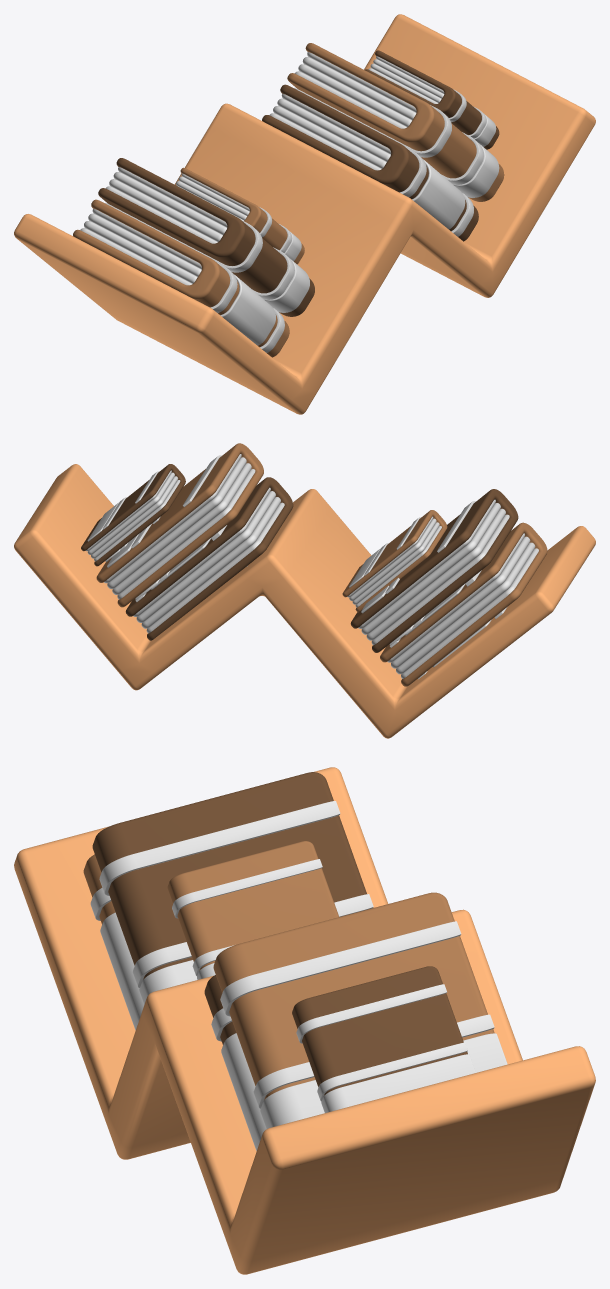
The model's file is Bookshelf.fbx.
3 renders of one model, top to bottom at view 1: azimuth 30°, elevation 25°; view 2: azimuth 150°, elevation 25°; view 3: azimuth 270°, elevation 25°, orthographic. The views are drawn at different scales.
Visible parts, largest first — view 1: Cube.100, Cube.101, Cube.112, Cube.102, Cube.111, Cube.110, Cube.116, Cube.120, Cube.106, Cube.107, Cube.121, Cube.117 (+9 smaller); view 2: Cube.100, Cube.112, Cube.101, Cube.116, Cube.106, Cube.110, Cube.120, Cube.102, Cube.111, Cube.121, Cube.126, Cube.130 (+2 smaller); view 3: Cube.100, Cube.112, Cube.101, Cube.121, Cube.126, Cube.105, Cube.115, Cube.122, Cube.113, Cube.117, Cube.107, Cube.129 (+7 smaller).
Part boxes in pixels (left/top/right/bottom): Cube.100: left=14, top=14, right=595, bottom=414; Cube.101: left=98, top=158, right=314, bottom=316; Cube.112: left=287, top=43, right=504, bottom=201; Cube.102: left=73, top=199, right=289, bottom=357; Cube.111: left=262, top=84, right=478, bottom=241; Cube.110: left=80, top=208, right=201, bottom=285; Cube.116: left=295, top=52, right=416, bottom=128; Cube.120: left=269, top=93, right=391, bottom=170; Cube.106: left=105, top=167, right=227, bottom=243; Cube.107: left=220, top=274, right=275, bottom=345; Cube.121: left=365, top=50, right=499, bottom=149; Cube.117: left=412, top=159, right=465, bottom=229; Cube.100: left=14, top=464, right=595, bottom=738; Cube.112: left=96, top=443, right=263, bottom=607; Cube.101: left=350, top=489, right=518, bottom=652; Cube.116: left=104, top=454, right=255, bottom=599; Cube.106: left=358, top=499, right=509, bottom=645; Cube.110: left=387, top=533, right=538, bottom=678; Cube.120: left=133, top=487, right=284, bottom=633; Cube.102: left=380, top=522, right=547, bottom=686; Cube.111: left=125, top=477, right=293, bottom=640; Cube.121: left=81, top=464, right=185, bottom=566; Cube.126: left=342, top=510, right=447, bottom=612; Cube.130: left=347, top=516, right=441, bottom=607; Cube.100: left=14, top=767, right=595, bottom=1274; Cube.112: left=213, top=892, right=494, bottom=1099; Cube.101: left=92, top=772, right=366, bottom=979; Cube.121: left=292, top=966, right=467, bottom=1095; Cube.126: left=167, top=841, right=338, bottom=970; Cube.105: left=99, top=801, right=340, bottom=895; Cube.115: left=220, top=921, right=461, bottom=1016; Cube.122: left=321, top=1054, right=475, bottom=1112; Cube.113: left=260, top=1033, right=507, bottom=1129; Cube.117: left=221, top=1033, right=266, bottom=1150; Cube.107: left=100, top=912, right=144, bottom=1030; Cube.129: left=172, top=859, right=322, bottom=918.
Bounding box in the file's own units: 524 × 229 × 346.
